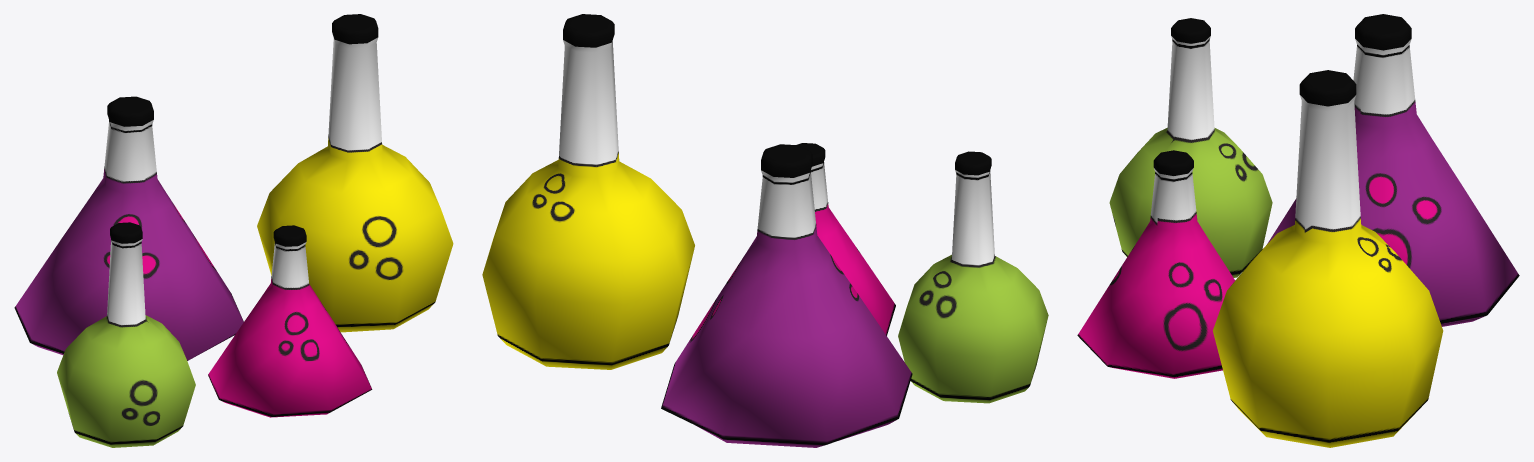
Rendered from Botellas.fbx.
3 views of the same model, side by side, from view 1: azimuth 30°, elevation 25°; view 2: azimuth 150°, elevation 25°; view 3: azimuth 270°, elevation 25° (orthographic). The views are drawn at different scales.
Visible parts, largest first — view 1: Botella2; view 2: Botella2; view 3: Botella2.
Part boxes in pixels (left/top/right/bottom): Botella2: left=14, top=14, right=453, bottom=447; Botella2: left=482, top=14, right=1048, bottom=447; Botella2: left=1077, top=14, right=1519, bottom=447.
Size of the model in its own units: 344 by 221 by 258.
1 material, 1 textured.
